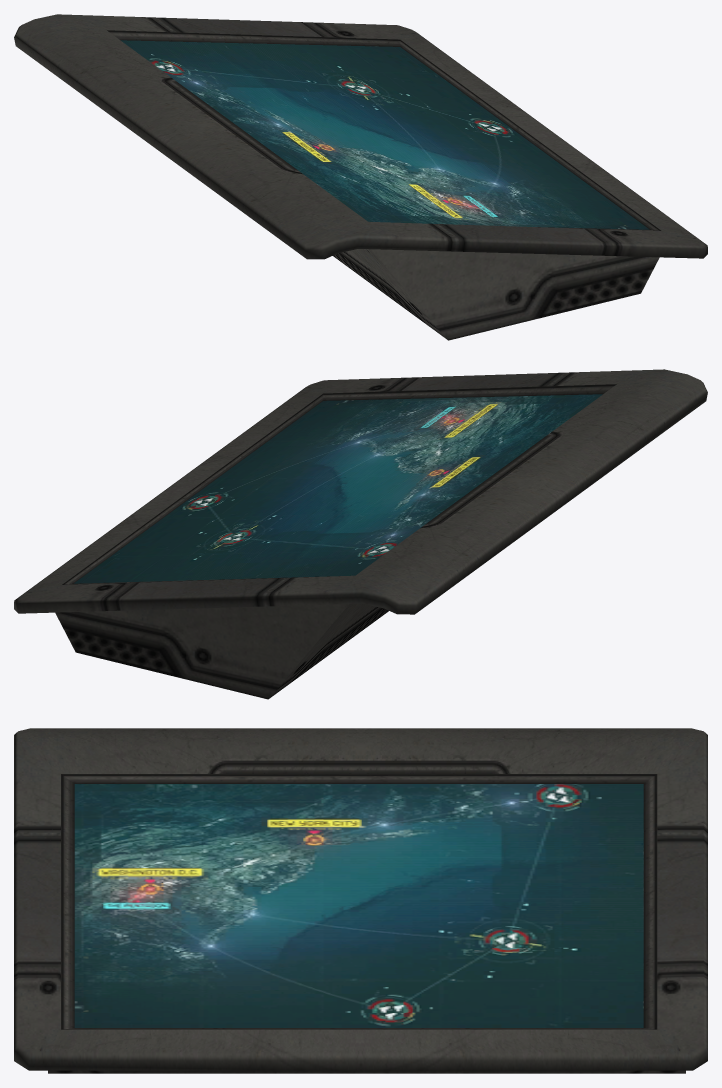
File: p6_cic_touchscreen_radar_04_lod0.glb
3 renders of one model, top to bottom at view 1: azimuth 30°, elevation 25°; view 2: azimuth 150°, elevation 25°; view 3: azimuth 270°, elevation 25°, orthographic. The views are drawn at different scales.
Visible parts, largest first — view 1: surf1, surf0; view 2: surf1, surf0; view 3: surf0, surf1.
Part boxes in pixels (left/top/right/bottom): surf1: left=14, top=14, right=707, bottom=340; surf0: left=121, top=40, right=649, bottom=229; surf1: left=14, top=369, right=707, bottom=699; surf0: left=74, top=394, right=602, bottom=583; surf0: left=74, top=784, right=643, bottom=1027; surf1: left=14, top=728, right=707, bottom=1073.
Bounding box in the file's own units: 26.3 × 8.83 × 34.47.
